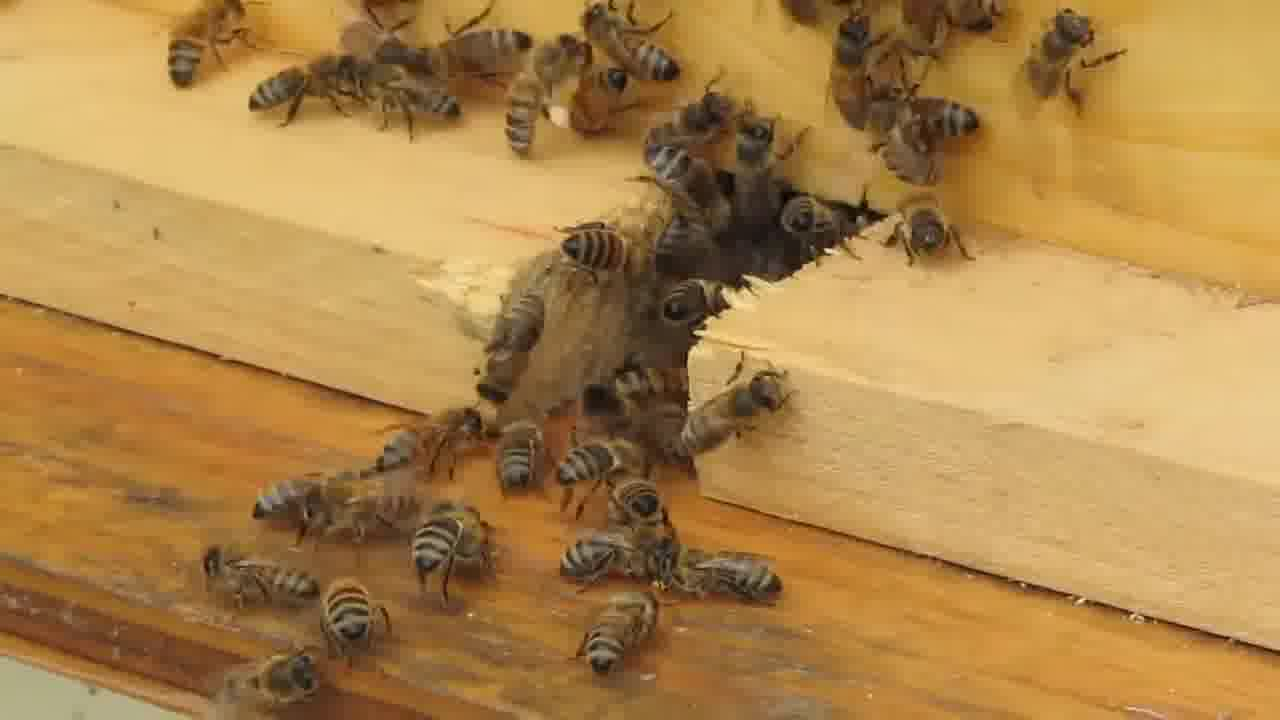pollen: (510, 37, 581, 169)
